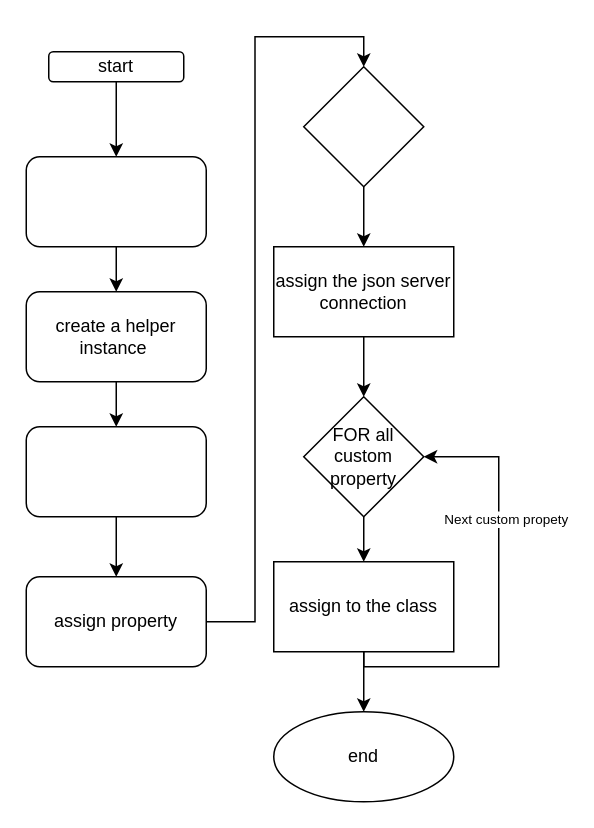
Image size: 594x828. Some labels were removed from this diagram. Each missing label, with the centre of its shape:
assign the truck rvo id,agent type: the point at 115,201
create the animation related fields and set NA: the point at 115,471
IF parameter give json server conn: the point at 363,126
